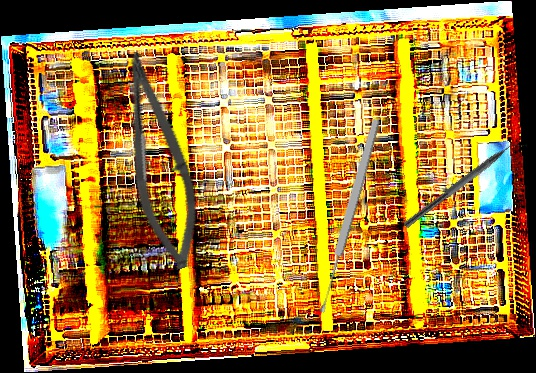Chopper: (403, 132, 529, 237)
Micro Scissor: (98, 46, 217, 275)
Surgical Spoon: (315, 118, 383, 314)
